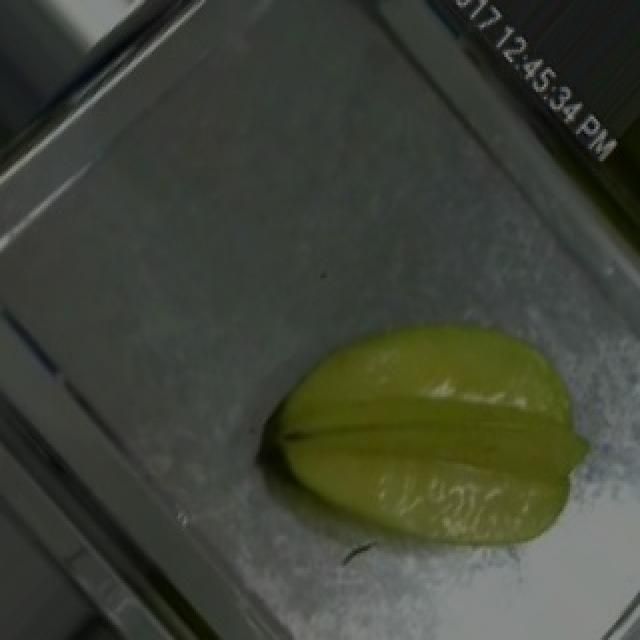fruit: (248, 251, 632, 605)
